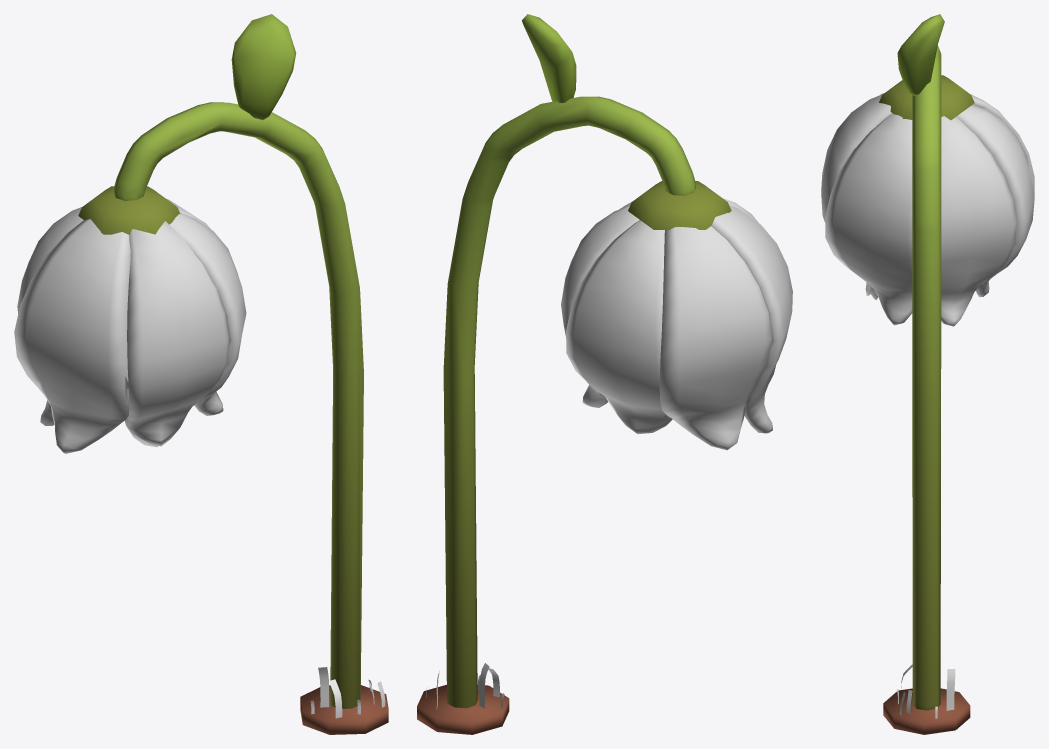
File: lampost.fbx
The picture shows the model from 3 angles, left to right: view 1: azimuth 30°, elevation 25°; view 2: azimuth 150°, elevation 25°; view 3: azimuth 270°, elevation 25°; orthographic projection. The views are drawn at different scales.
Parts seen in each view (by area): view 1: Cylinder.004; view 2: Cylinder.004; view 3: Cylinder.004.
Part boxes in pixels (x1,y1,x2,y2): Cylinder.004: (14, 14, 388, 734); Cylinder.004: (417, 14, 792, 734); Cylinder.004: (821, 14, 1034, 734).
Bounding box in the file's own units: 1076 × 2040 × 591.
